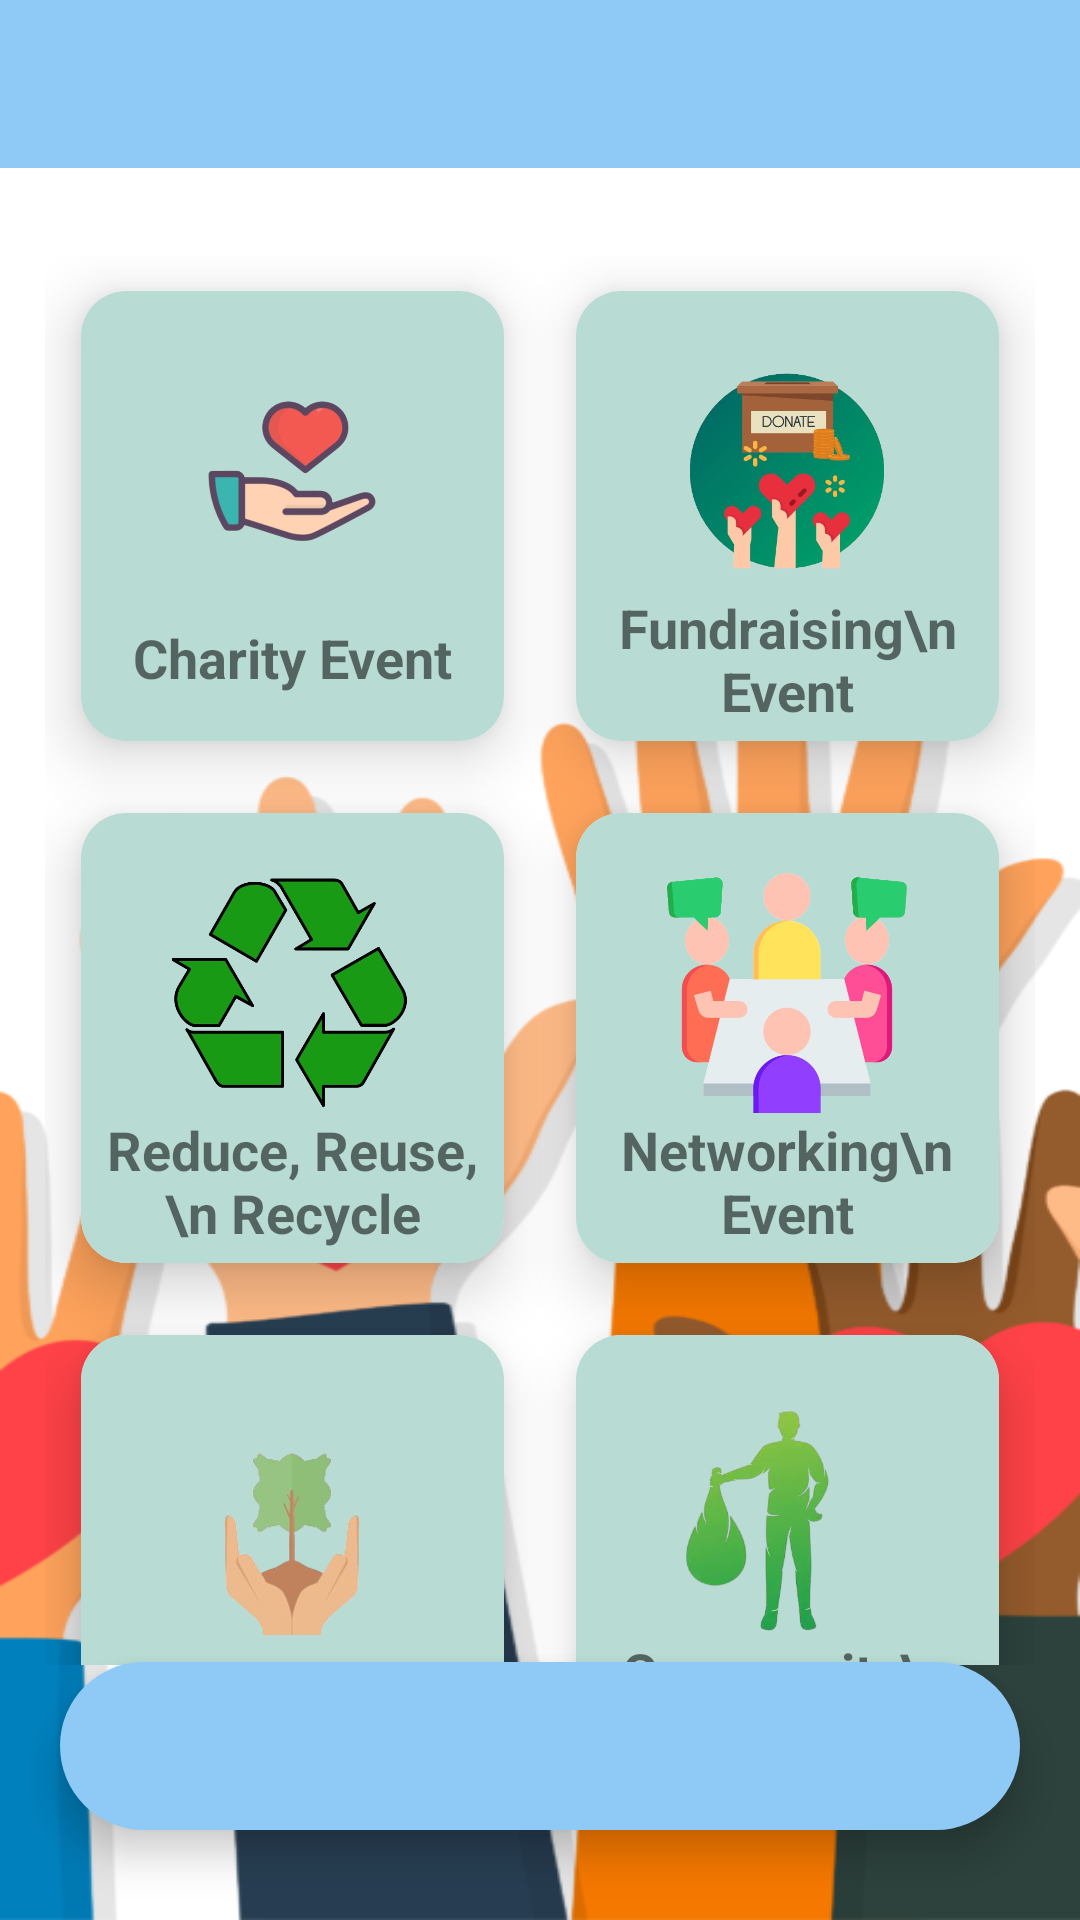

Named icons in this screenshot (1080x1920) and their centers, (x=x, y=y):
treeplanting: (x=292, y=1544)
